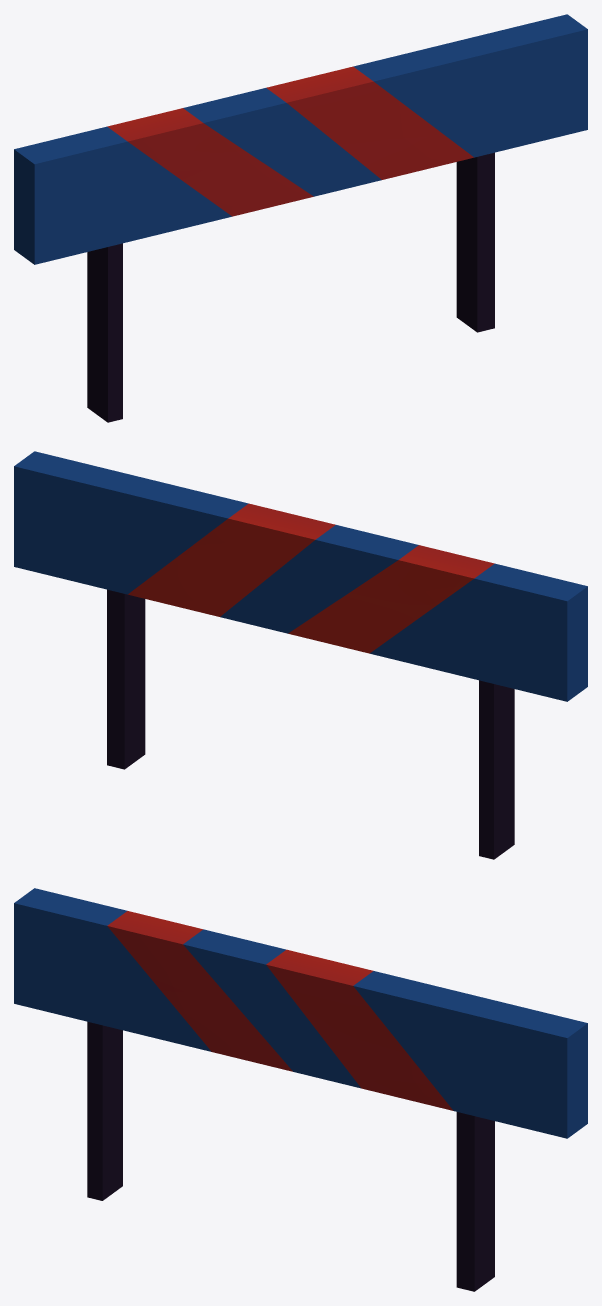
The model's file is Building_Blockade.fbx.
3 renders of one model, top to bottom at view 1: azimuth 30°, elevation 25°; view 2: azimuth 150°, elevation 25°; view 3: azimuth 330°, elevation 25°, orthographic.
Visible parts, largest first — view 1: Cube.046; view 2: Cube.046; view 3: Cube.046.
Part boxes in pixels (box(x1,y1,x2,y2)): Cube.046: box(14, 14, 587, 422); Cube.046: box(14, 451, 587, 859); Cube.046: box(14, 888, 587, 1291).
Size of the model in its own units: 248 by 118 by 15.96.
